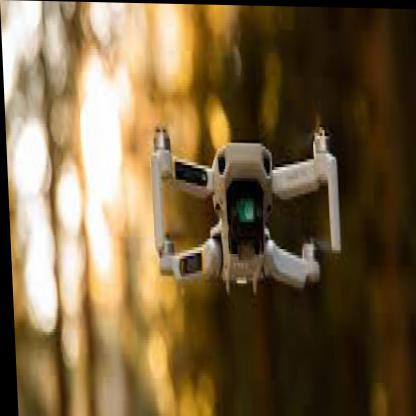UAS: (148, 123, 341, 287)
